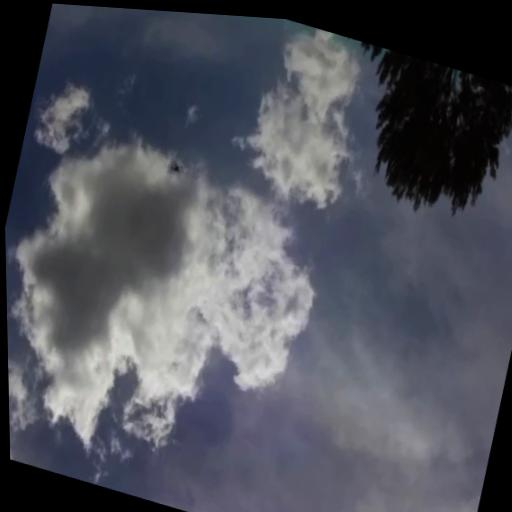drones: (165, 155, 187, 181)
